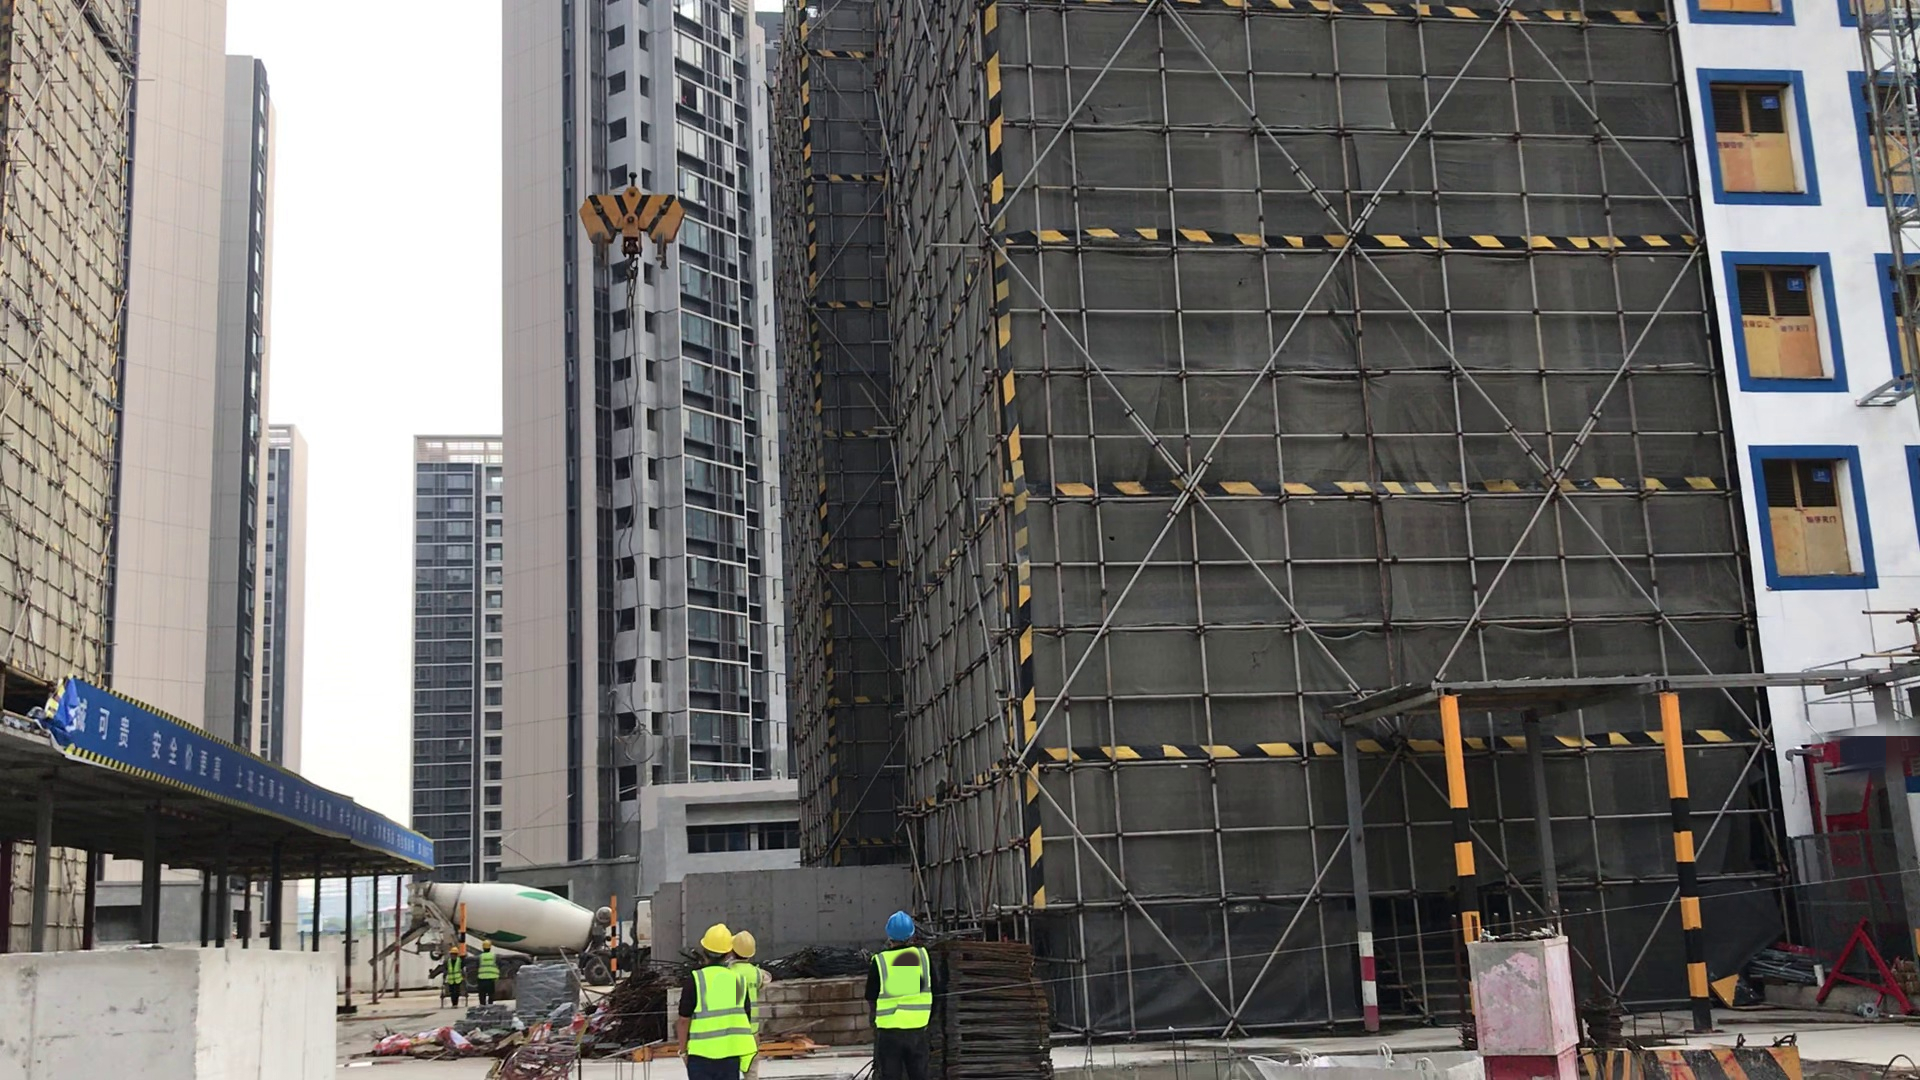brick: (4, 946, 342, 1080)
helmet: (699, 925, 734, 961), (885, 908, 920, 943), (732, 931, 763, 959), (482, 939, 493, 951), (447, 945, 460, 955)
hook: (567, 180, 698, 292)
hopper: (1577, 1029, 1821, 1080), (1250, 1039, 1489, 1080)
person: (676, 922, 773, 1080), (861, 907, 942, 1080), (440, 945, 470, 1010), (476, 938, 502, 1008)
slogan: (285, 778, 429, 866), (149, 723, 290, 809), (54, 699, 141, 754)
vest: (690, 969, 757, 1064), (874, 948, 934, 1031), (476, 953, 500, 981), (446, 958, 465, 985)
